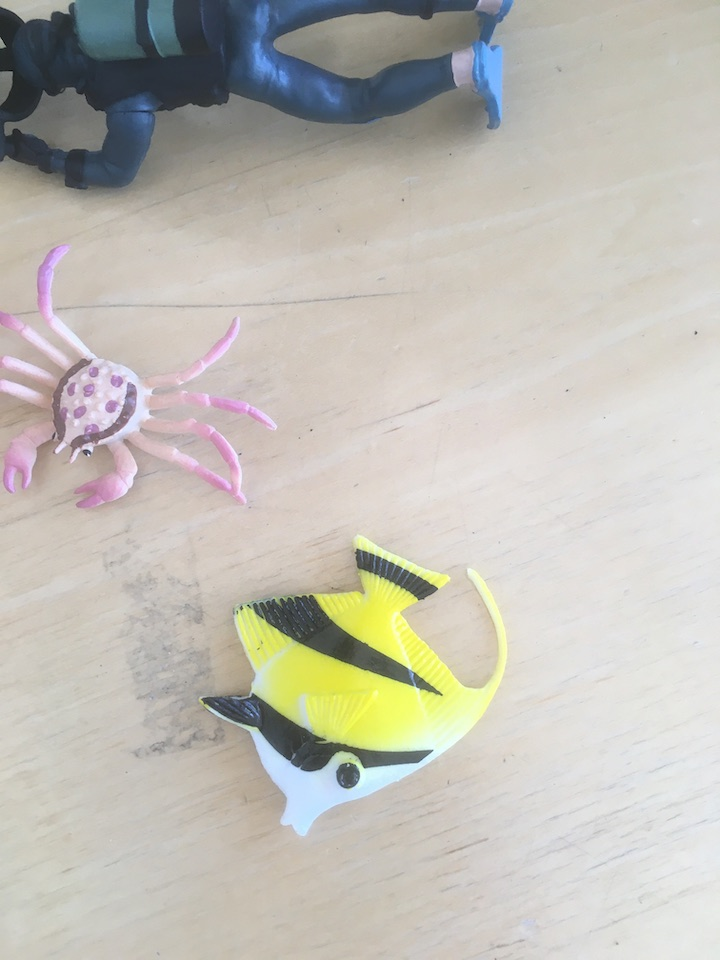crab: (1, 239, 286, 521)
danger: (195, 529, 510, 845)
diver: (1, 1, 518, 194)
